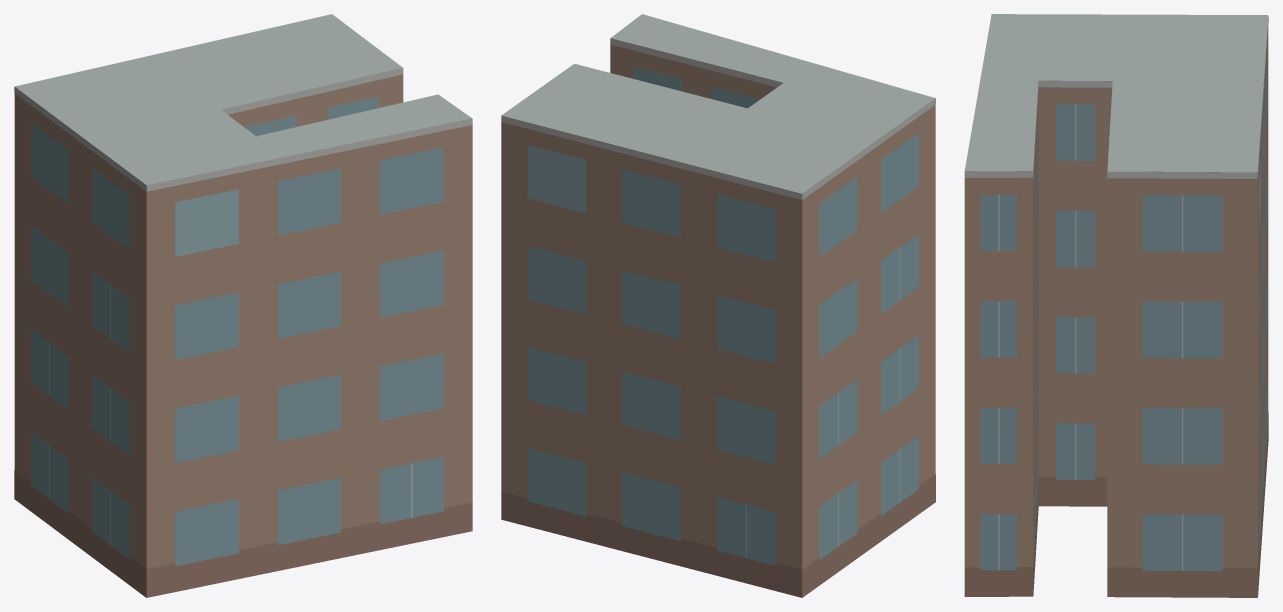
The model's file is survey-upis-32894763.glb.
3 views of the same model, side by side, from view 1: azimuth 30°, elevation 25°; view 2: azimuth 150°, elevation 25°; view 3: azimuth 270°, elevation 25° (orthographic). The views are drawn at different scales.
Visible parts, largest first — view 1: survey-upis-32894763.tmp; view 2: survey-upis-32894763.tmp; view 3: survey-upis-32894763.tmp.
Part boxes in pixels (left/top/right/bottom): survey-upis-32894763.tmp: left=14, top=14, right=472, bottom=597; survey-upis-32894763.tmp: left=501, top=14, right=935, bottom=597; survey-upis-32894763.tmp: left=964, top=14, right=1268, bottom=597.
Size of the model in its own units: 12.38 by 15.5 by 10.04.
